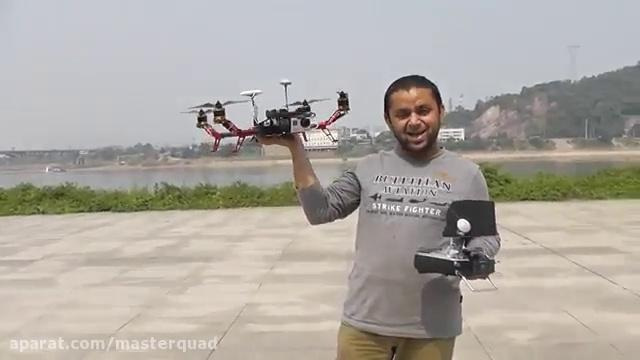drone: (172, 73, 356, 155)
